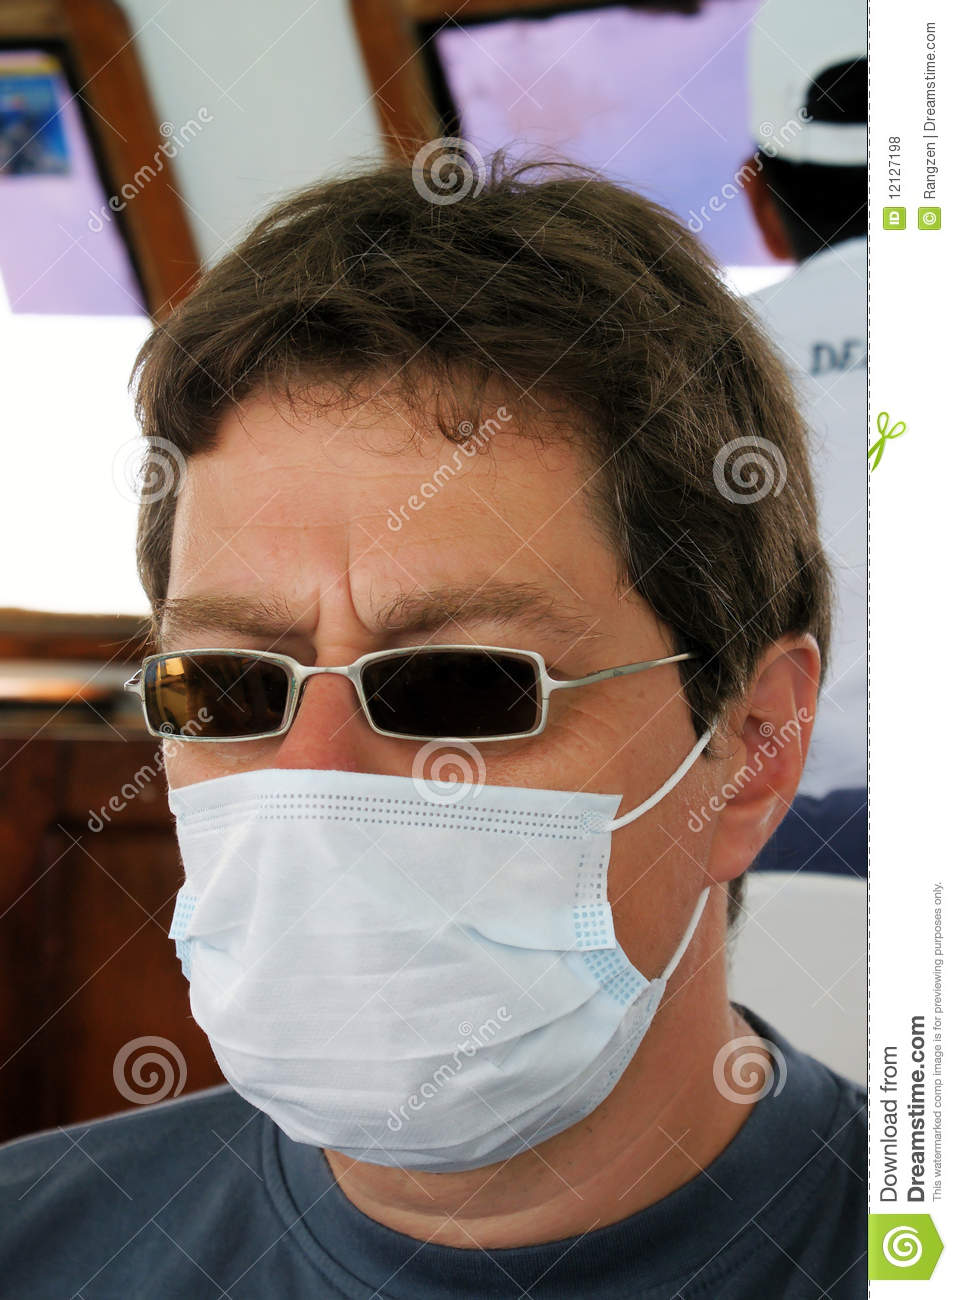mask: (167, 759, 660, 1176)
